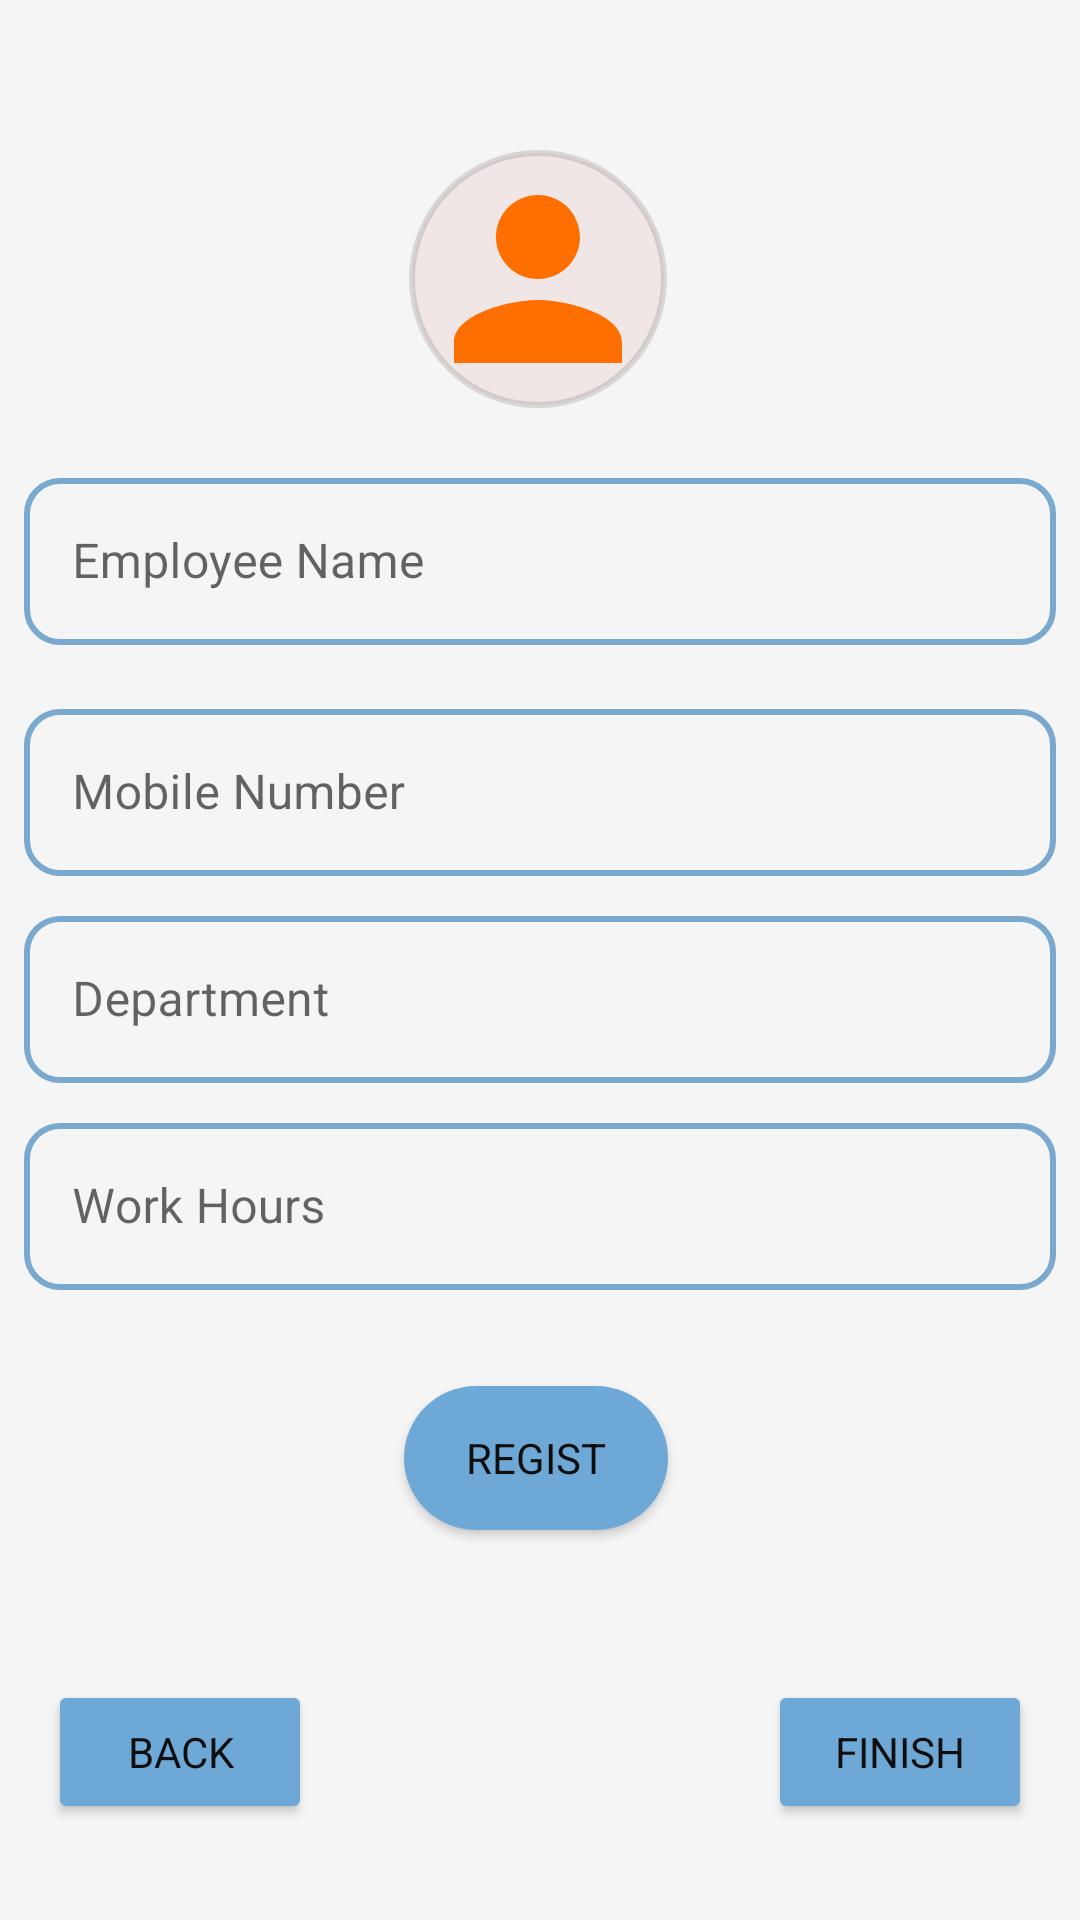

Icons on this 1080*1920 Android screen, each with the point to tap as (x=x, y=y):
emp: (x=538, y=279)
